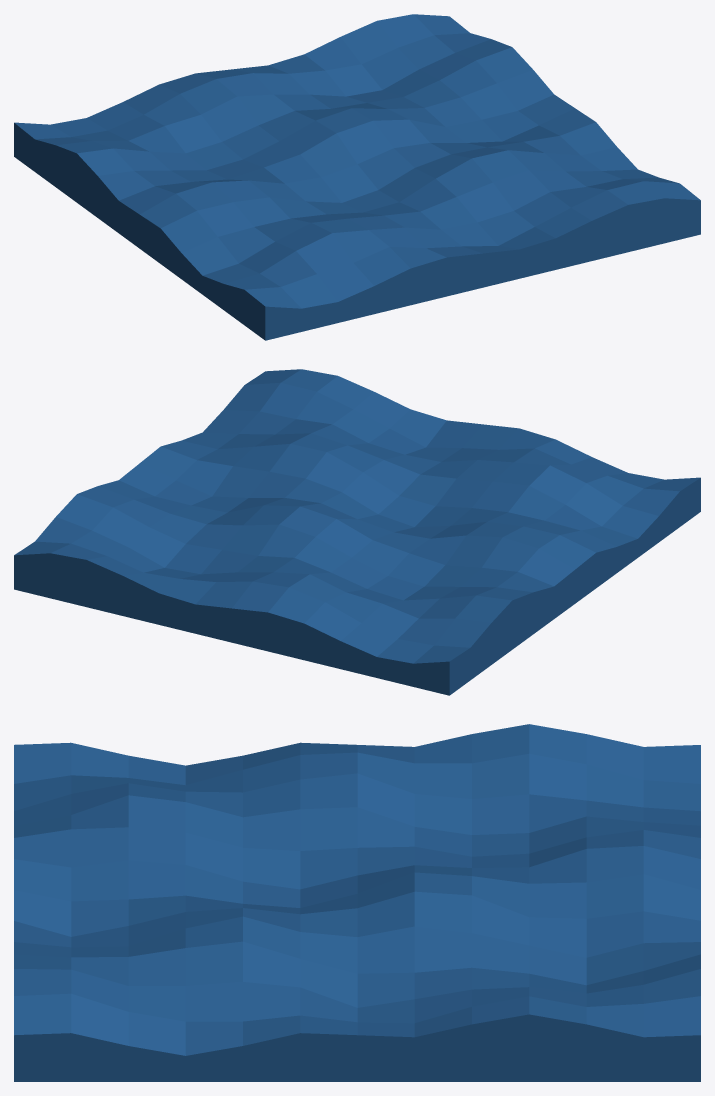
Rendered from WaterDeep.fbx.
The picture shows the model from 3 angles, top to bottom: view 1: azimuth 30°, elevation 25°; view 2: azimuth 150°, elevation 25°; view 3: azimuth 270°, elevation 25°; orthographic projection. The views are drawn at different scales.
Visible parts, largest first — view 1: WaterDeep_Water; view 2: WaterDeep_Water; view 3: WaterDeep_Water.
Part boxes in pixels (box(x1,y1,x2,y2)): WaterDeep_Water: box(14, 14, 700, 340); WaterDeep_Water: box(14, 369, 700, 695); WaterDeep_Water: box(14, 724, 700, 1081).
Bounding box in the file's own units: 48 × 5.34 × 48.
